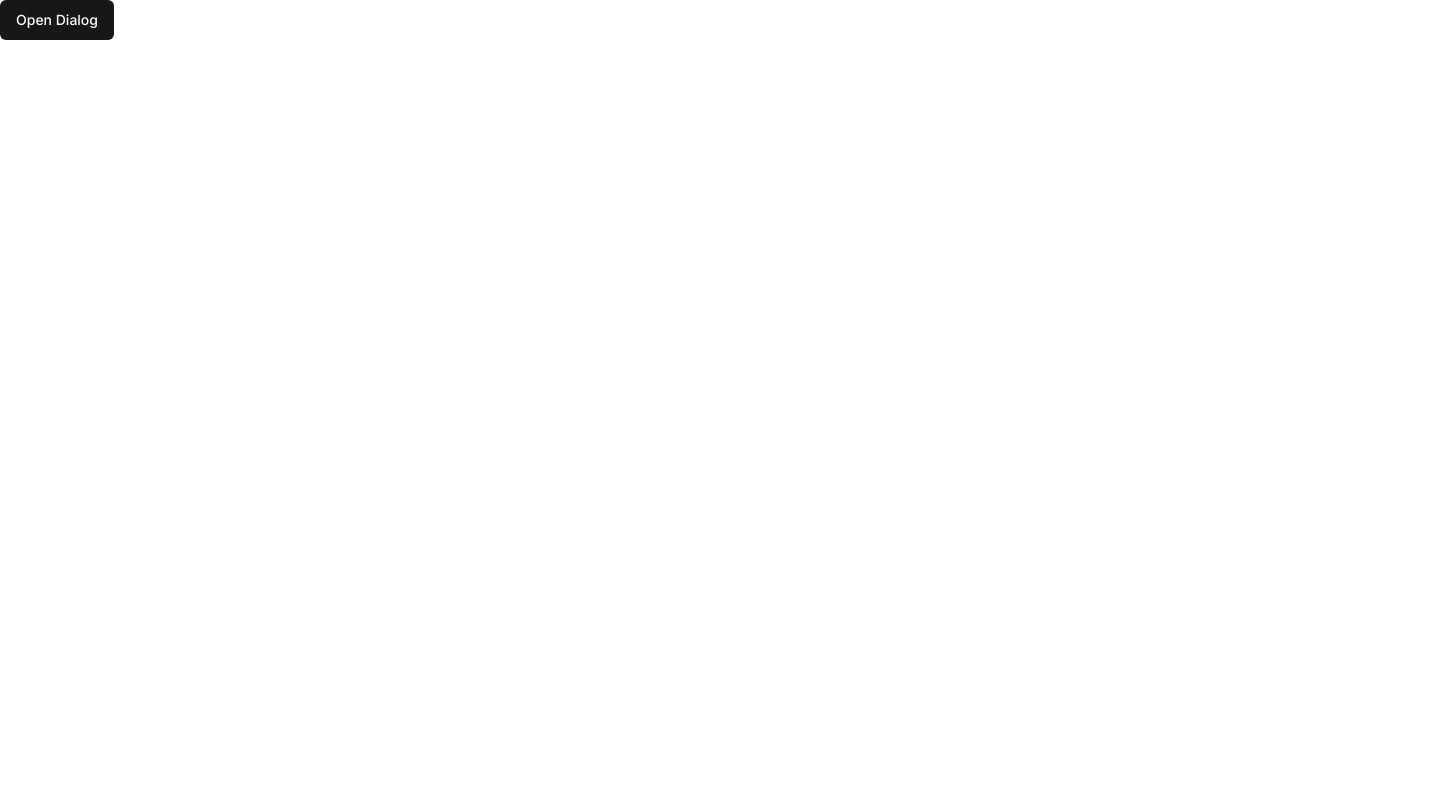
Test: Dialog › closes when clicking the X button
This screenshot has width=1440, height=810.
// Open the dialog
Click the button "Open Dialog". click: (57, 20)
box: [0,0,114,40]
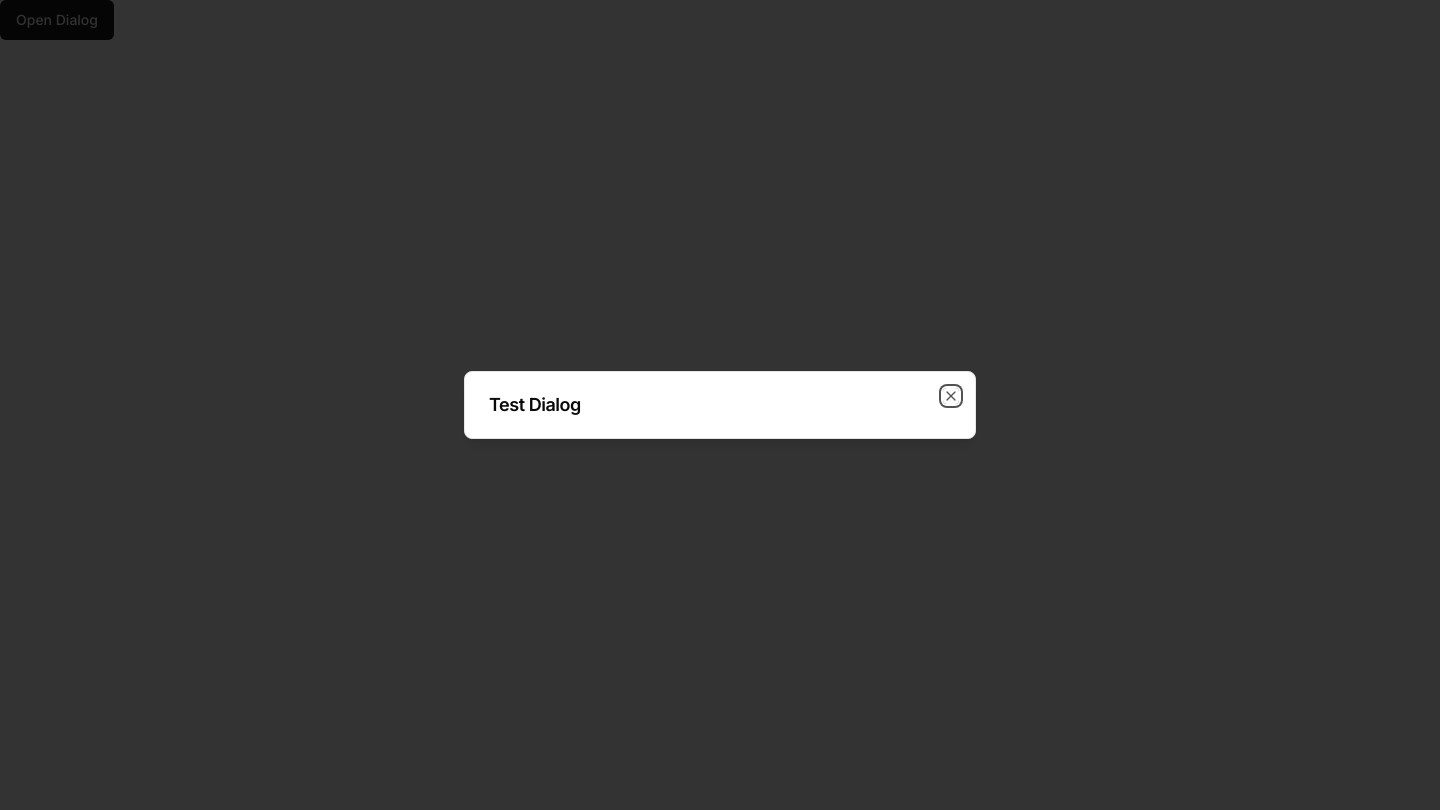
// Find and click the close button (X)
Click the button named "Close". click: (951, 396)
box: [943,388,959,404]
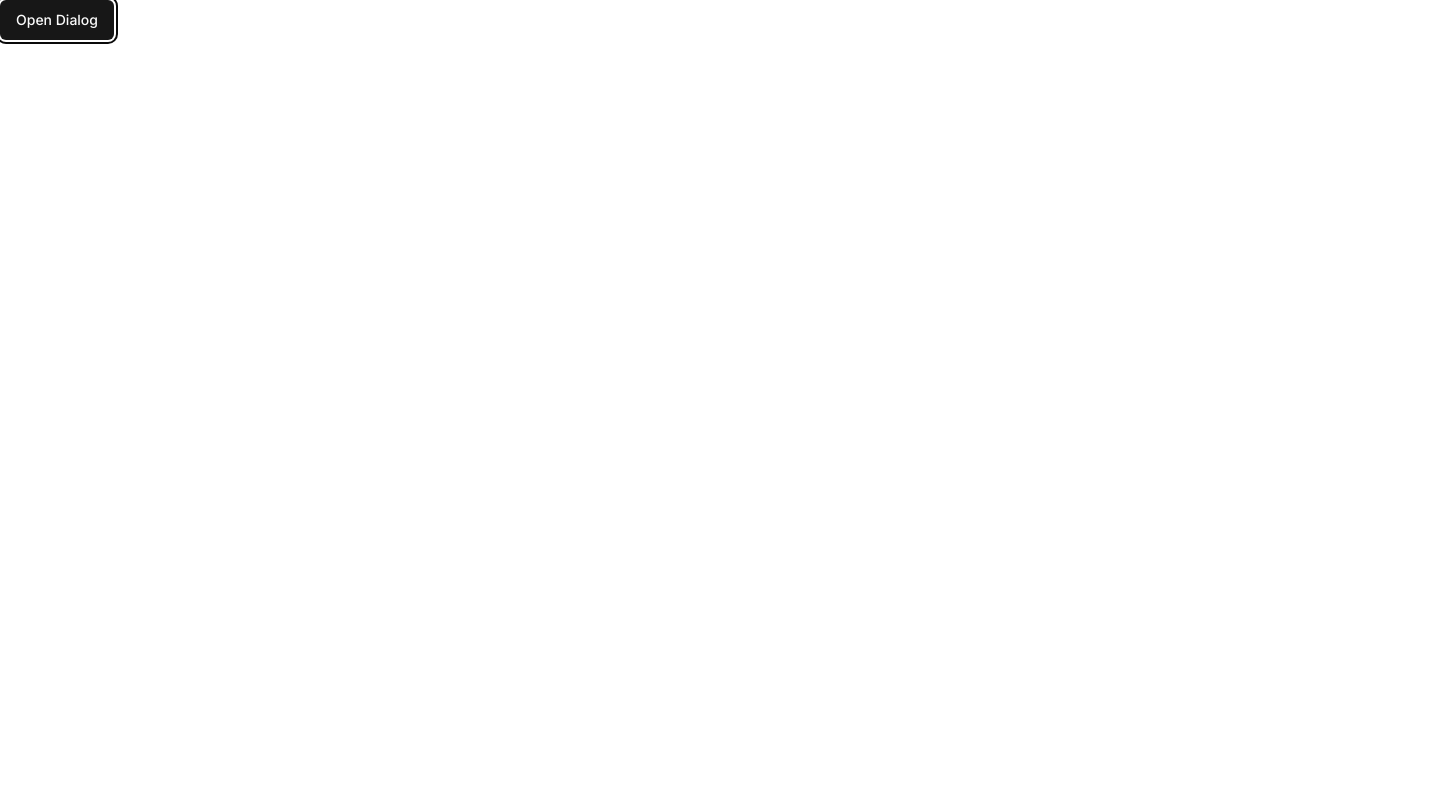
Expected: the heading "Test Dialog" is gone
